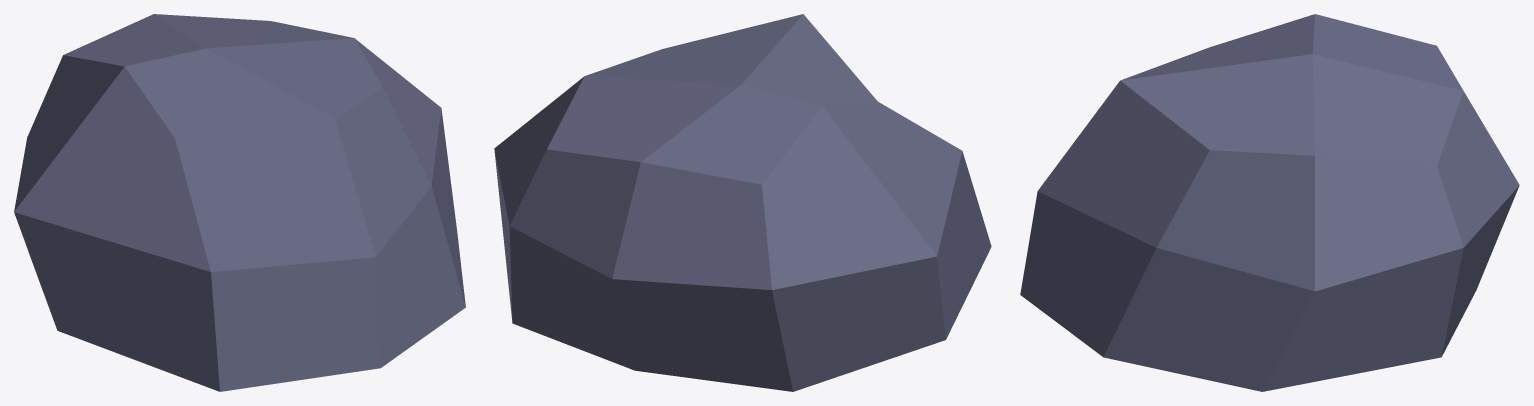
File: rock_1.fbx
The picture shows the model from 3 angles, left to right: view 1: azimuth 30°, elevation 25°; view 2: azimuth 150°, elevation 25°; view 3: azimuth 270°, elevation 25°; orthographic projection. The views are drawn at different scales.
Visible parts, largest first — view 1: Cube.006; view 2: Cube.006; view 3: Cube.006.
Part boxes in pixels (left/top/right/bottom): Cube.006: left=14, top=14, right=465, bottom=391; Cube.006: left=494, top=14, right=991, bottom=391; Cube.006: left=1020, top=14, right=1519, bottom=391.
Size of the model in its own units: 1.03 by 0.5117 by 1.02.
1 material, 1 textured.
